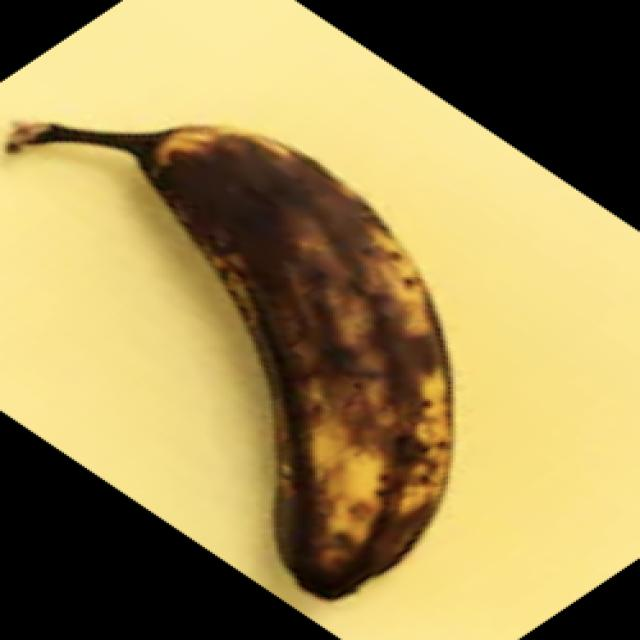overripe: (48, 121, 461, 598)
